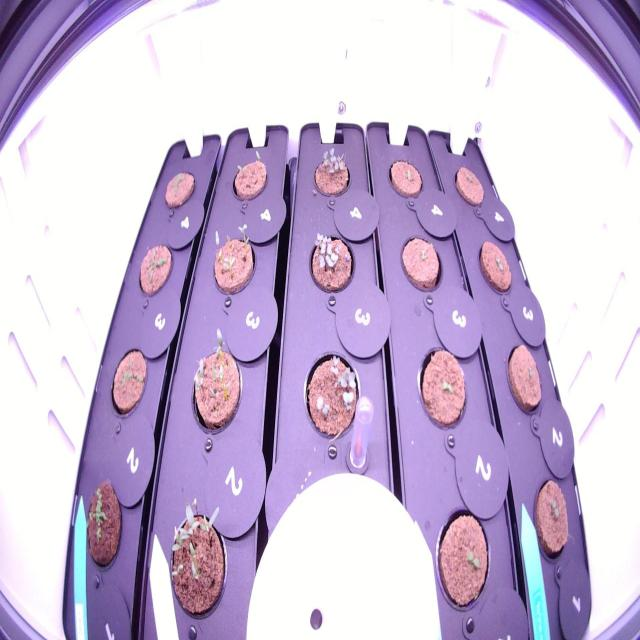germination: (160, 488, 232, 623), (429, 497, 494, 618), (186, 324, 247, 442), (297, 349, 366, 447), (412, 339, 474, 446), (75, 473, 128, 585), (524, 462, 574, 568), (300, 219, 360, 302), (201, 220, 259, 305), (394, 228, 449, 311), (305, 137, 355, 209), (475, 227, 517, 304), (227, 144, 271, 212), (132, 238, 177, 304), (378, 152, 429, 210), (449, 154, 487, 214), (156, 162, 199, 212)
pod: (500, 326, 549, 422), (105, 339, 153, 424)
